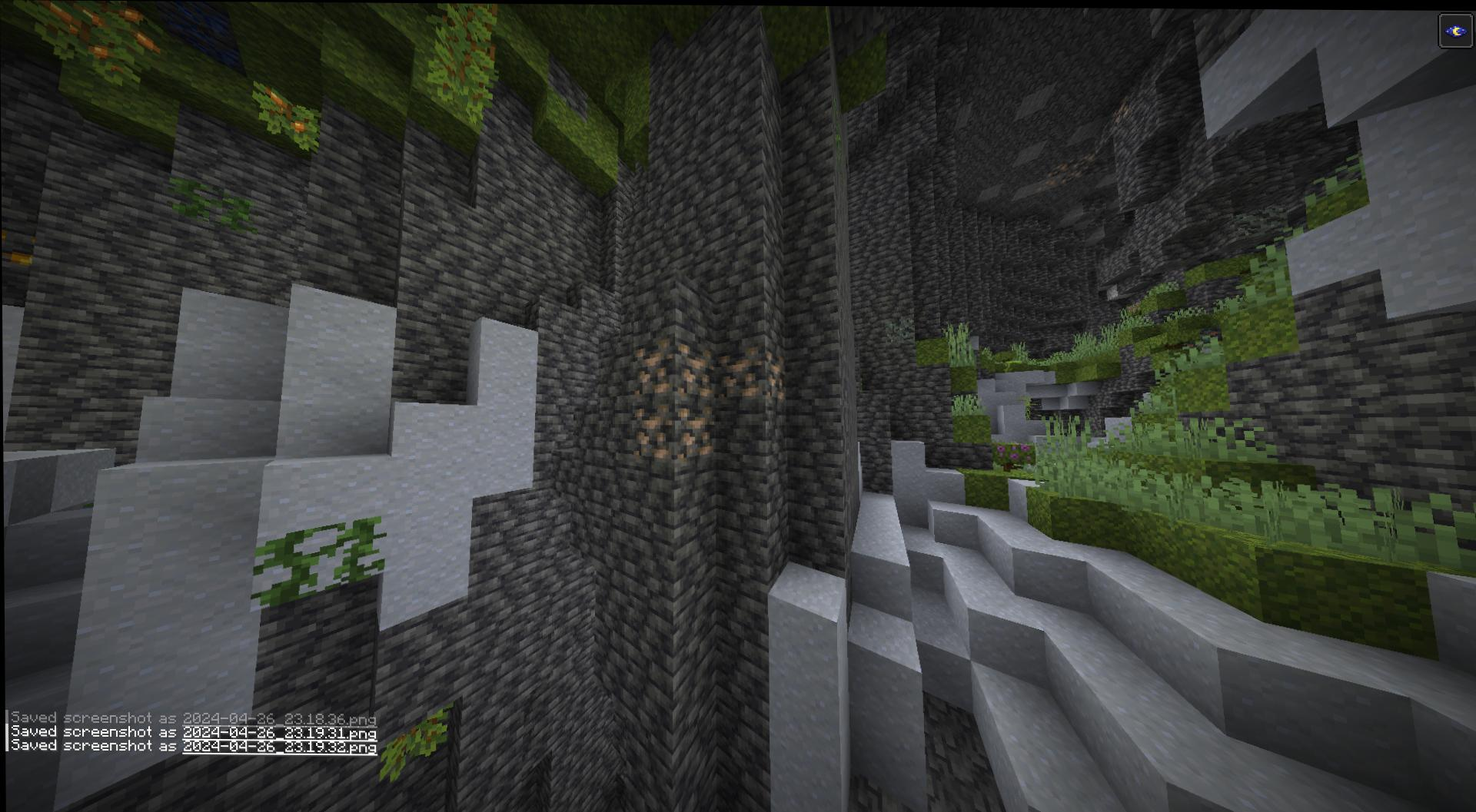iron ore: (676, 400, 718, 463), (629, 400, 673, 457), (630, 337, 671, 395), (717, 348, 763, 395), (676, 343, 715, 396), (1044, 152, 1094, 185), (763, 348, 786, 399)
